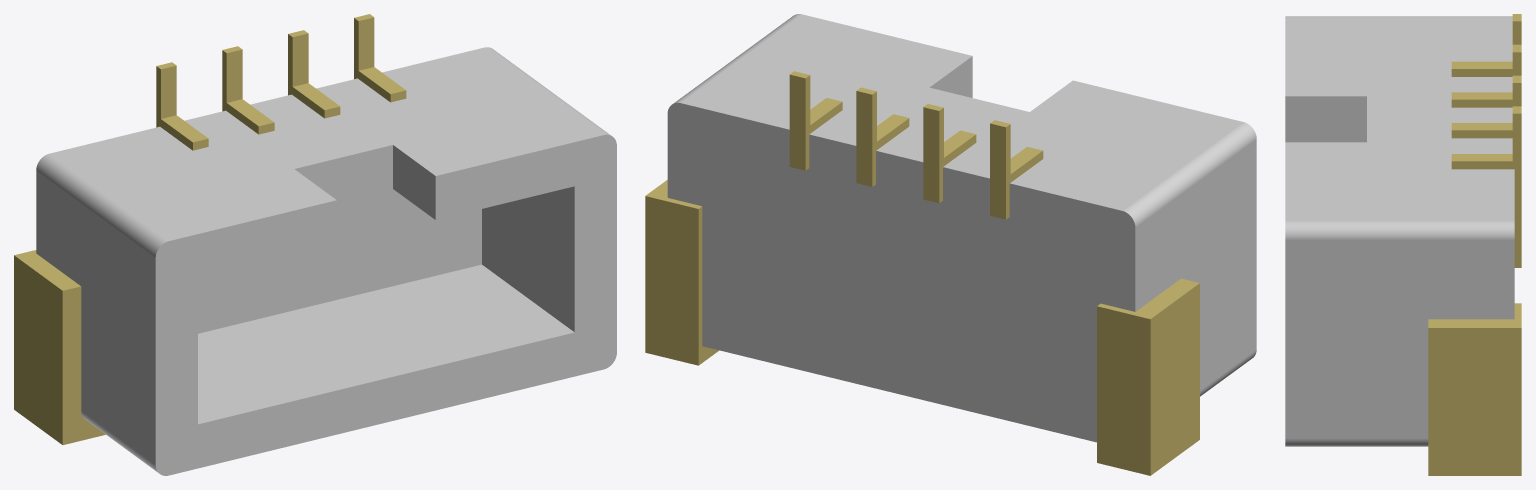
Rendered from jst_gh_4pin.glb.
The picture shows the model from 3 angles, left to right: view 1: azimuth 30°, elevation 25°; view 2: azimuth 150°, elevation 25°; view 3: azimuth 270°, elevation 25°; orthographic projection. The views are drawn at different scales.
Parts seen in each view (by area): view 1: world; view 2: world; view 3: world.
Part boxes in pixels (x1,y1,x2,y2): world: [14, 14, 616, 475]; world: [645, 14, 1256, 475]; world: [1285, 14, 1521, 475].
Bounding box in the file's own units: 9.45 × 5.6 × 4.05.
